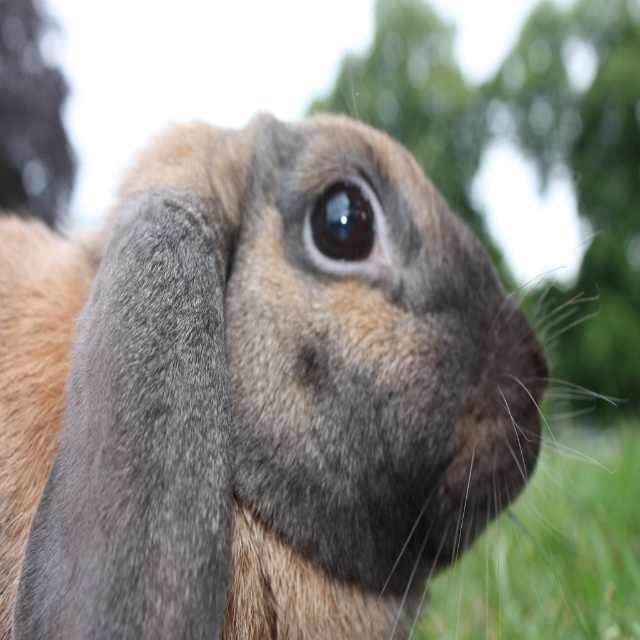Rabbit: (0, 58, 626, 639)
